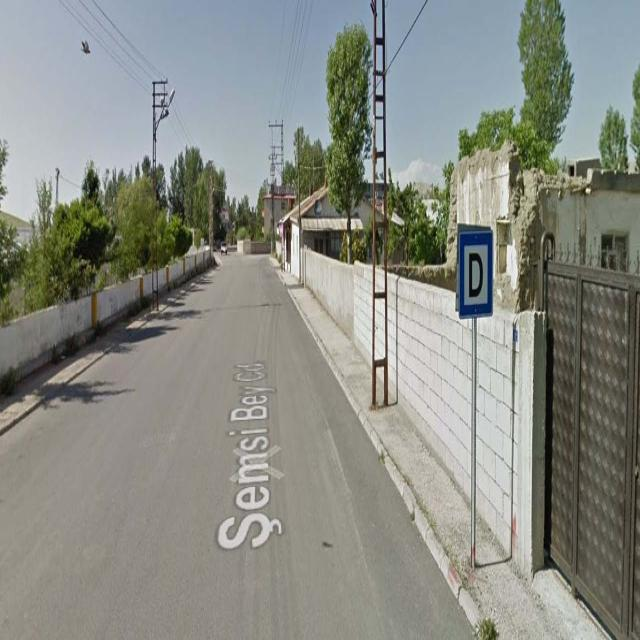durak: (458, 231, 492, 319)
